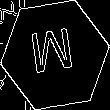M_S: (30, 27, 80, 83)
